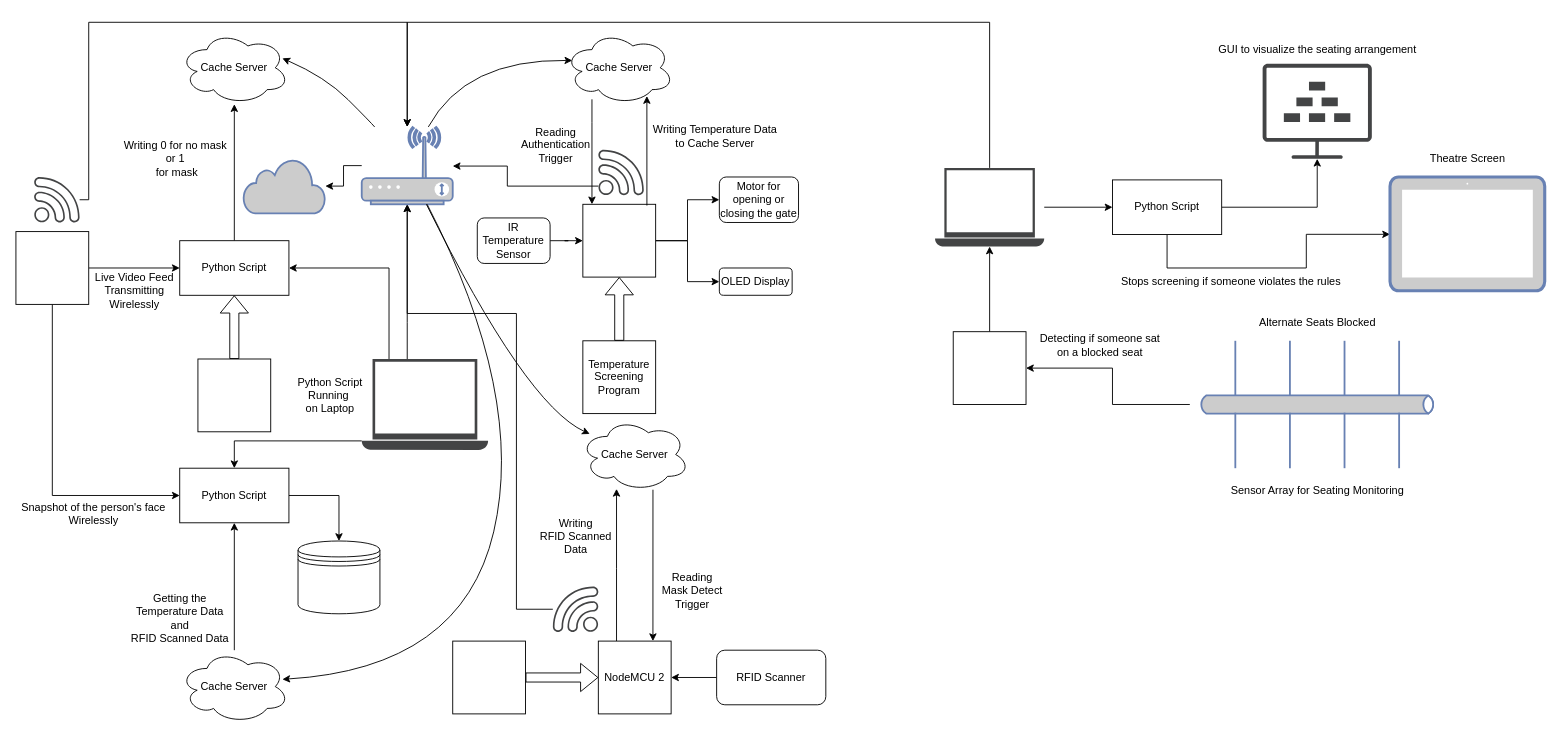
This 1562x739 diagram has some shape labels left out. Each missing label, with the box of its shape:
Arduino MCU: (952, 331, 1026, 404)
Authentication Program: (452, 640, 526, 714)
Google Firebase: (242, 157, 326, 214)
Google FireStore Database: (297, 540, 380, 614)
IP CAMERA: (15, 231, 89, 304)
Mask Detection Algorithm: (197, 358, 271, 432)
NodeMCU 1: (582, 203, 656, 277)
